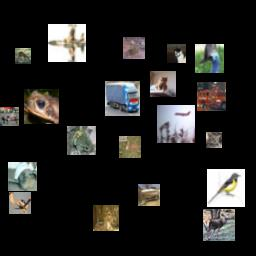airplane: (48, 24, 86, 62), (157, 105, 195, 143), (9, 192, 31, 214), (0, 107, 19, 126)
bird: (207, 169, 245, 207), (195, 44, 224, 73)
cat: (8, 162, 37, 191), (150, 71, 176, 97), (167, 44, 186, 63), (206, 132, 222, 148)
deer: (203, 209, 235, 241), (93, 205, 119, 231), (123, 37, 145, 59), (119, 136, 141, 158), (15, 48, 31, 64)
frog: (24, 89, 59, 124), (67, 126, 96, 155)
ship: (138, 184, 160, 206)
truck: (105, 81, 140, 116), (197, 82, 226, 111)
